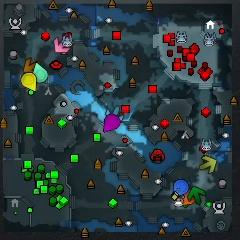p1: (173, 180, 189, 195)
p2: (33, 62, 49, 83)
p3: (104, 115, 119, 132)
p4: (21, 74, 37, 93)
p5: (182, 190, 195, 205)
x1: (54, 37, 70, 53)
x2: (199, 155, 216, 174)
x3: (106, 106, 123, 120)
x4: (189, 186, 205, 204)
x5: (24, 57, 40, 73)
